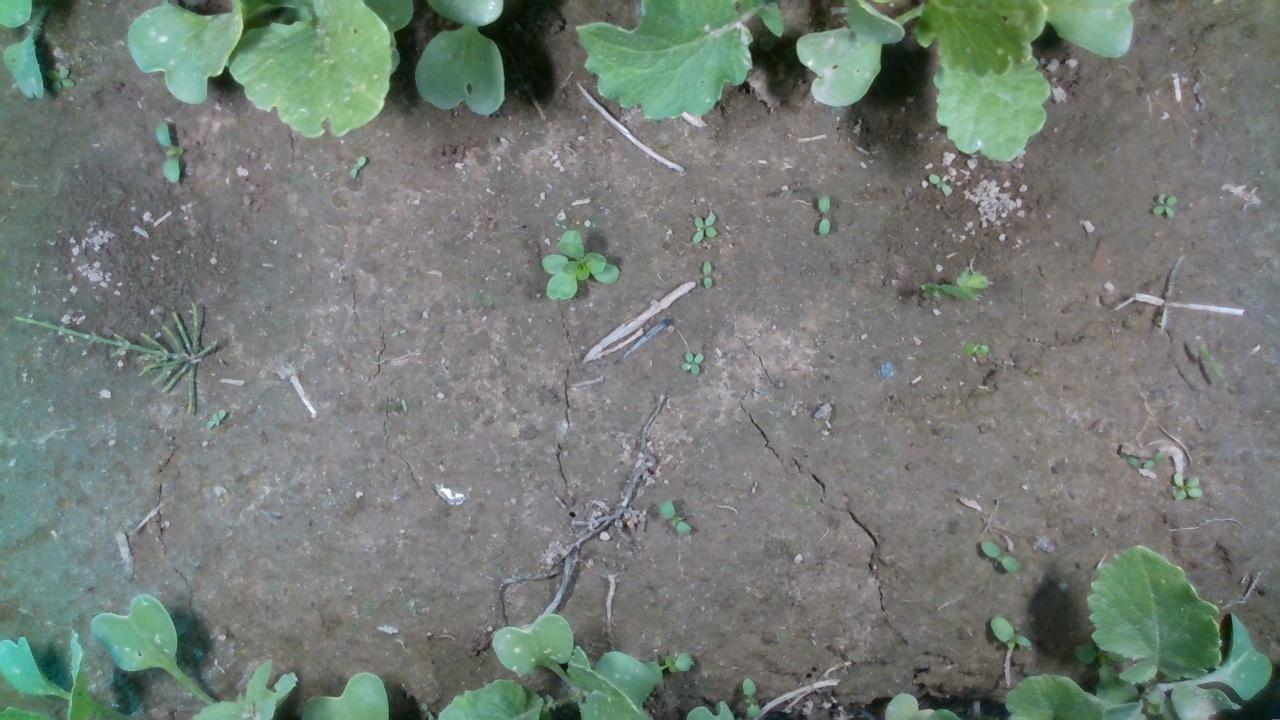weed: (154, 120, 182, 183), (987, 614, 1031, 650), (1196, 335, 1224, 383), (979, 539, 1019, 572), (655, 498, 690, 535), (689, 211, 717, 243), (1172, 472, 1202, 501), (740, 676, 760, 718), (44, 64, 73, 90), (1151, 191, 1176, 218), (815, 194, 831, 235), (678, 351, 704, 374), (927, 172, 951, 196), (348, 153, 366, 179), (1143, 449, 1164, 469), (699, 258, 712, 289)
